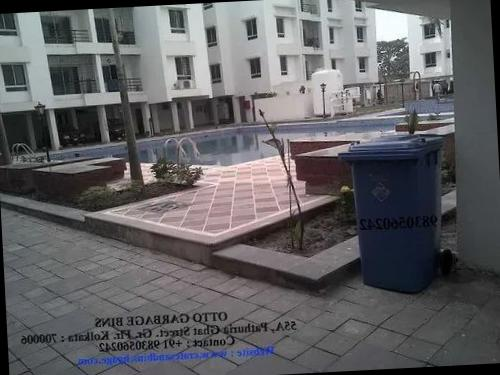garbage bin: (86, 155, 289, 261), (339, 135, 443, 291)
pavement: (1, 206, 500, 375)
